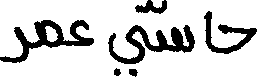ا: (203, 8, 213, 52)
ح: (216, 22, 255, 54)
ر: (0, 24, 30, 63)
س: (154, 19, 193, 53)
ع: (69, 18, 93, 46)
م: (34, 18, 61, 48)
ي: (106, 24, 150, 75)
